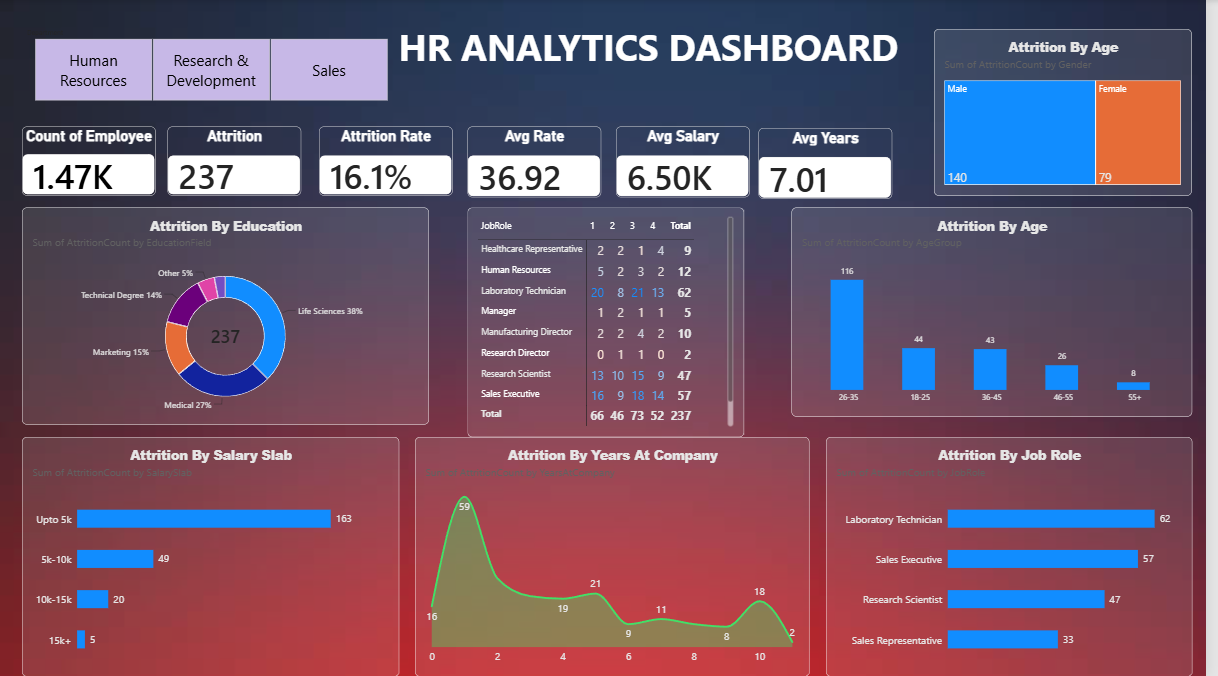

The page's visual inventory and layout, read from the dashboard file:
{"tool":"powerbi","page":{"name":"Page 1","canvas":[1920,1080],"ordinal":0},"visuals":[{"type":"cardVisual","title":"Count of Employee","fields":{"Data":["CountNonNull(HR_Analytics.EmpID)"]},"box":[38.2,202.8,212.3,109.8],"z":0},{"type":"cardVisual","title":"Attrition","fields":{"Data":["Sum(HR_Analytics.AttritionCount)"]},"box":[270,202.5,212.5,110],"z":1000},{"type":"cardVisual","title":"Avg Rate","fields":{"Data":["Avg(HR_Analytics.Age)"]},"box":[747.5,202.5,212.5,112.5],"z":2000},{"type":"cardVisual","title":"Attrition Rate","fields":{"Data":["HR_Analytics.Attrition Rate"]},"box":[510,202.5,212.5,110],"z":3000},{"type":"cardVisual","title":"Avg Years","fields":{"Data":["Avg(HR_Analytics.YearsAtCompany)"]},"box":[1210,205,212.5,112.5],"z":4000},{"type":"cardVisual","title":"Avg Salary","fields":{"Data":["Avg(HR_Analytics.MonthlyIncome)"]},"box":[982.5,202.5,212.5,112.5],"z":5000},{"type":"donutChart","title":"Attrition By Education","fields":{"Category":["HR_Analytics.EducationField"],"Y":["Sum(HR_Analytics.AttritionCount)"]},"box":[37.5,332.5,647.5,345],"z":6000},{"type":"columnChart","title":"Attrition By Age","fields":{"Category":["HR_Analytics.AgeGroup"],"Y":["Sum(HR_Analytics.AttritionCount)"]},"box":[1262.5,332.5,637.5,332.5],"z":7000},{"type":"pivotTable","fields":{"Rows":["HR_Analytics.JobRole"],"Columns":["HR_Analytics.JobSatisfaction"],"Values":["Sum(HR_Analytics.AttritionCount)"]},"box":[747.5,332.5,440,365],"z":8000},{"type":"barChart","title":"Attrition By Salary Slab","fields":{"Category":["HR_Analytics.SalarySlab"],"Y":["Sum(HR_Analytics.AttritionCount)"]},"box":[37.5,697.5,600,382.5],"z":9000},{"type":"barChart","title":"Attrition By Job Role","fields":{"Category":["HR_Analytics.JobRole"],"Y":["Sum(HR_Analytics.AttritionCount)"]},"box":[1317.5,697.5,582.5,382.5],"z":10000},{"type":"areaChart","title":"Attrition By Years At Company","fields":{"Category":["HR_Analytics.YearsAtCompany"],"Y":["Sum(HR_Analytics.AttritionCount)"]},"box":[662.5,697.5,627.5,382.5],"z":11000},{"type":"treemap","title":"Attrition By Age","fields":{"Group":["HR_Analytics.Gender"],"Values":["Sum(HR_Analytics.AttritionCount)"]},"box":[1490,47.5,410,265],"z":12000},{"type":"slicer","title":"Department","fields":{"Values":["HR_Analytics.Department"]},"box":[37.5,47.5,600,115],"z":13000},{"type":"textbox","box":[637.5,35,802.5,127.5],"z":14000}]}

Visuals, with their boxes in screenshot pixels (x1, y1, x2, y2), scaled from the page's 1920x1080 canvas onto the 1218x676 screenshot:
"Count of Employee" cardVisual: 24,127,159,196
"Attrition" cardVisual: 171,127,306,196
"Avg Rate" cardVisual: 474,127,609,197
"Attrition Rate" cardVisual: 324,127,458,196
"Avg Years" cardVisual: 768,128,902,199
"Avg Salary" cardVisual: 623,127,758,197
"Attrition By Education" donutChart: 24,208,435,424
"Attrition By Age" columnChart: 801,208,1205,416
pivotTable - HR_Analytics.JobRole x HR_Analytics.JobSatisfaction: 474,208,753,437
"Attrition By Salary Slab" barChart: 24,437,404,675
"Attrition By Job Role" barChart: 836,437,1205,675
"Attrition By Years At Company" areaChart: 420,437,818,675
"Attrition By Age" treemap: 945,30,1205,196
"Department" slicer: 24,30,404,102
textbox: 404,22,914,102
